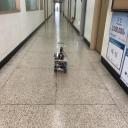cart: (54, 55, 68, 74)
